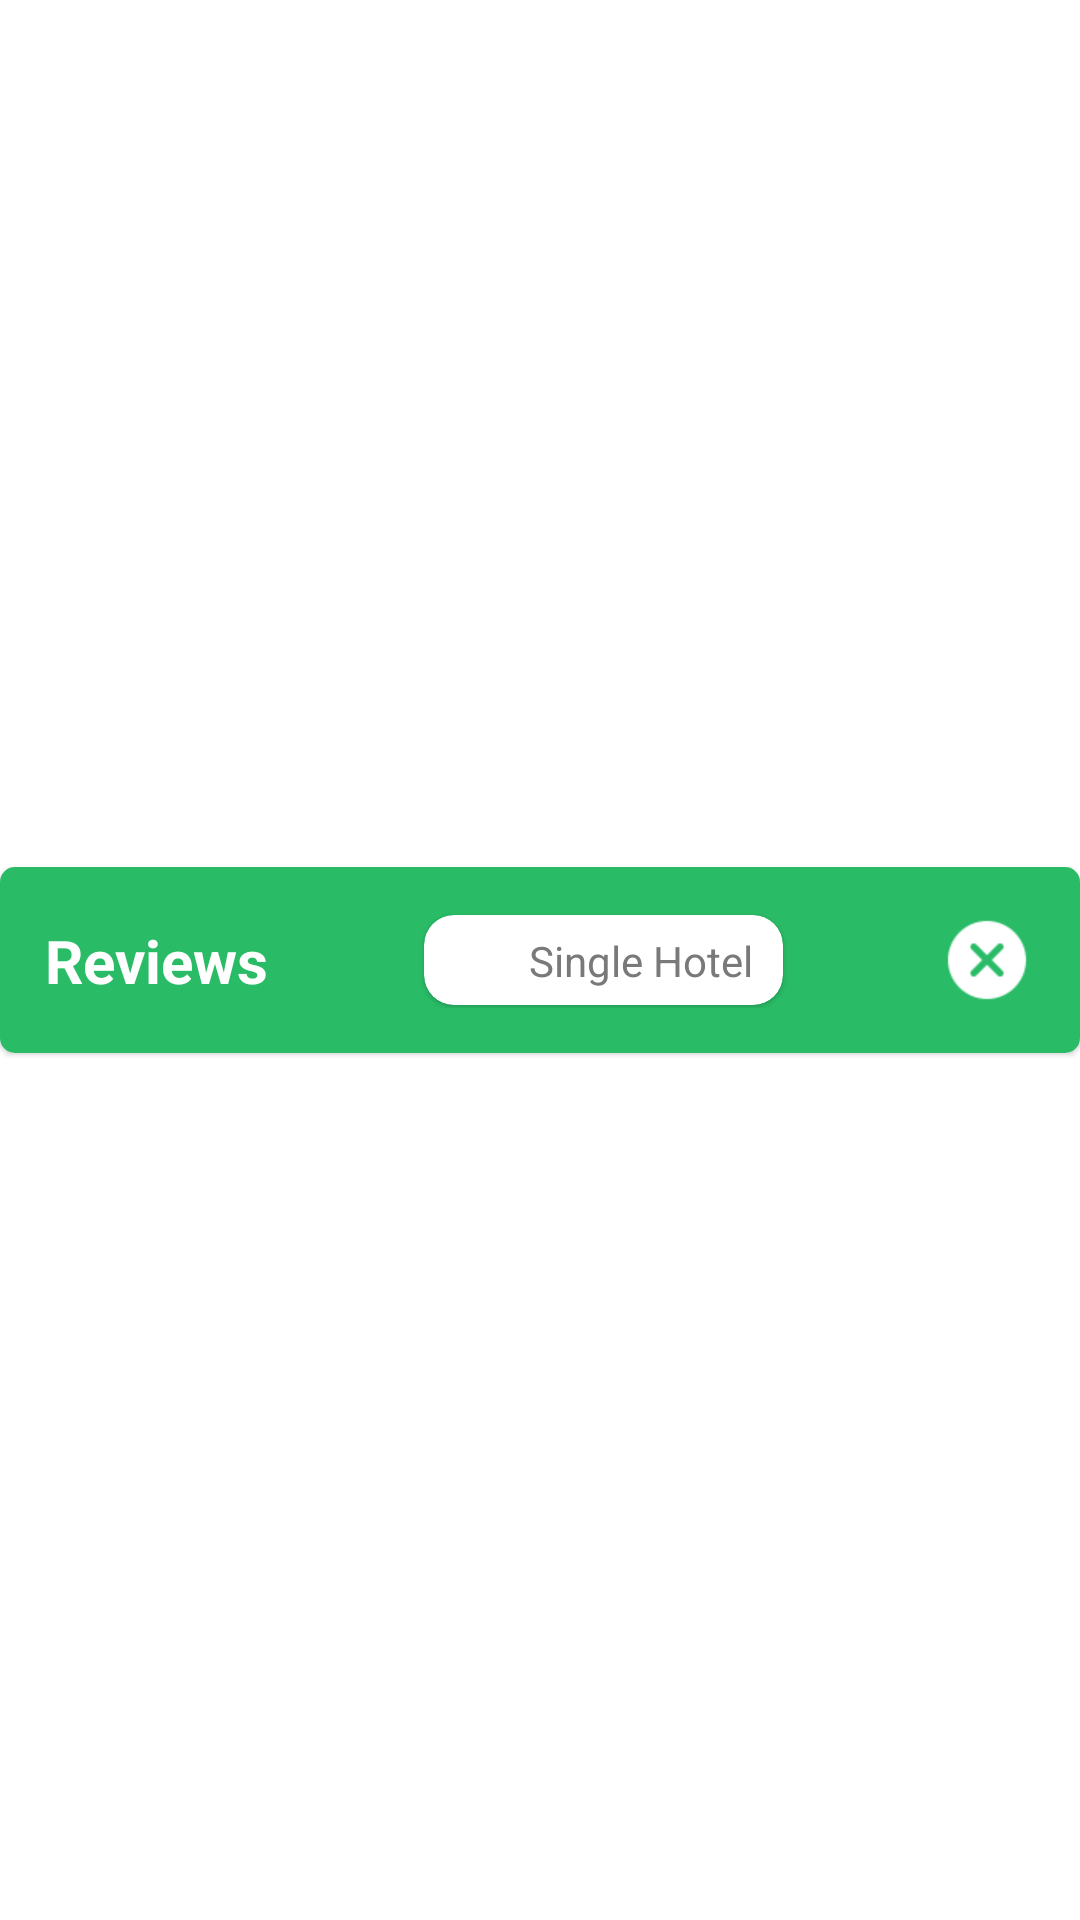

Icons on this 1080 x 1920 Android screen, each with the point to tap as (x,y):
close: (987,960)
